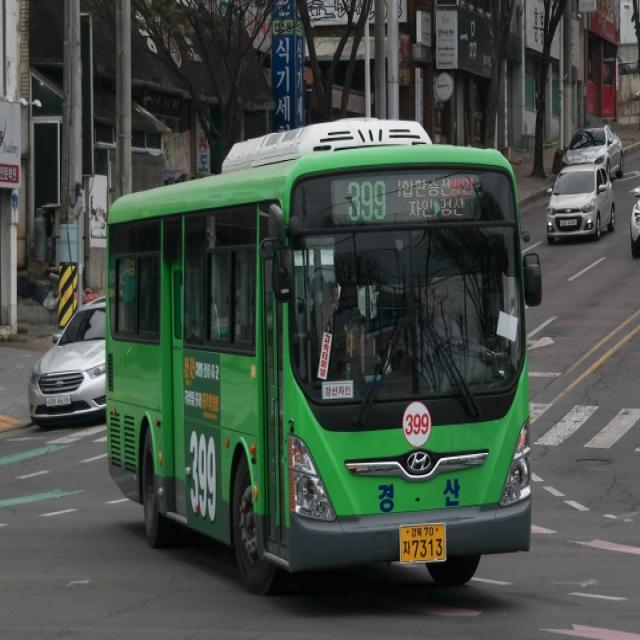bus-number: (344, 179, 389, 223)
